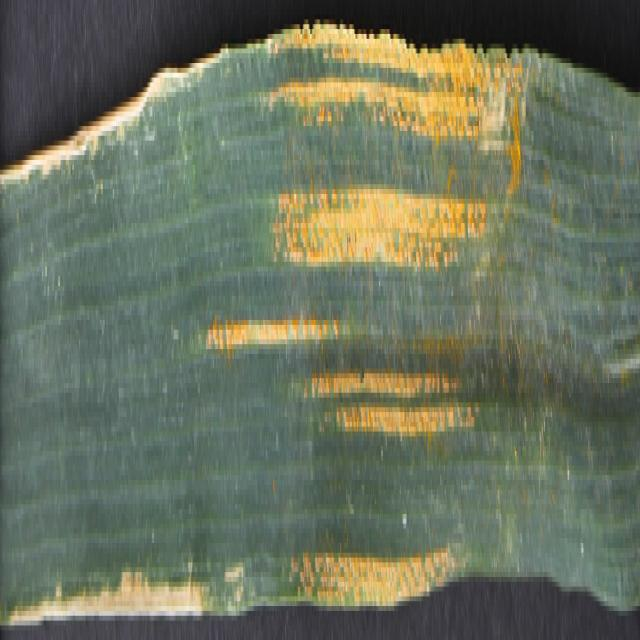leaf rust: (198, 24, 560, 616)
